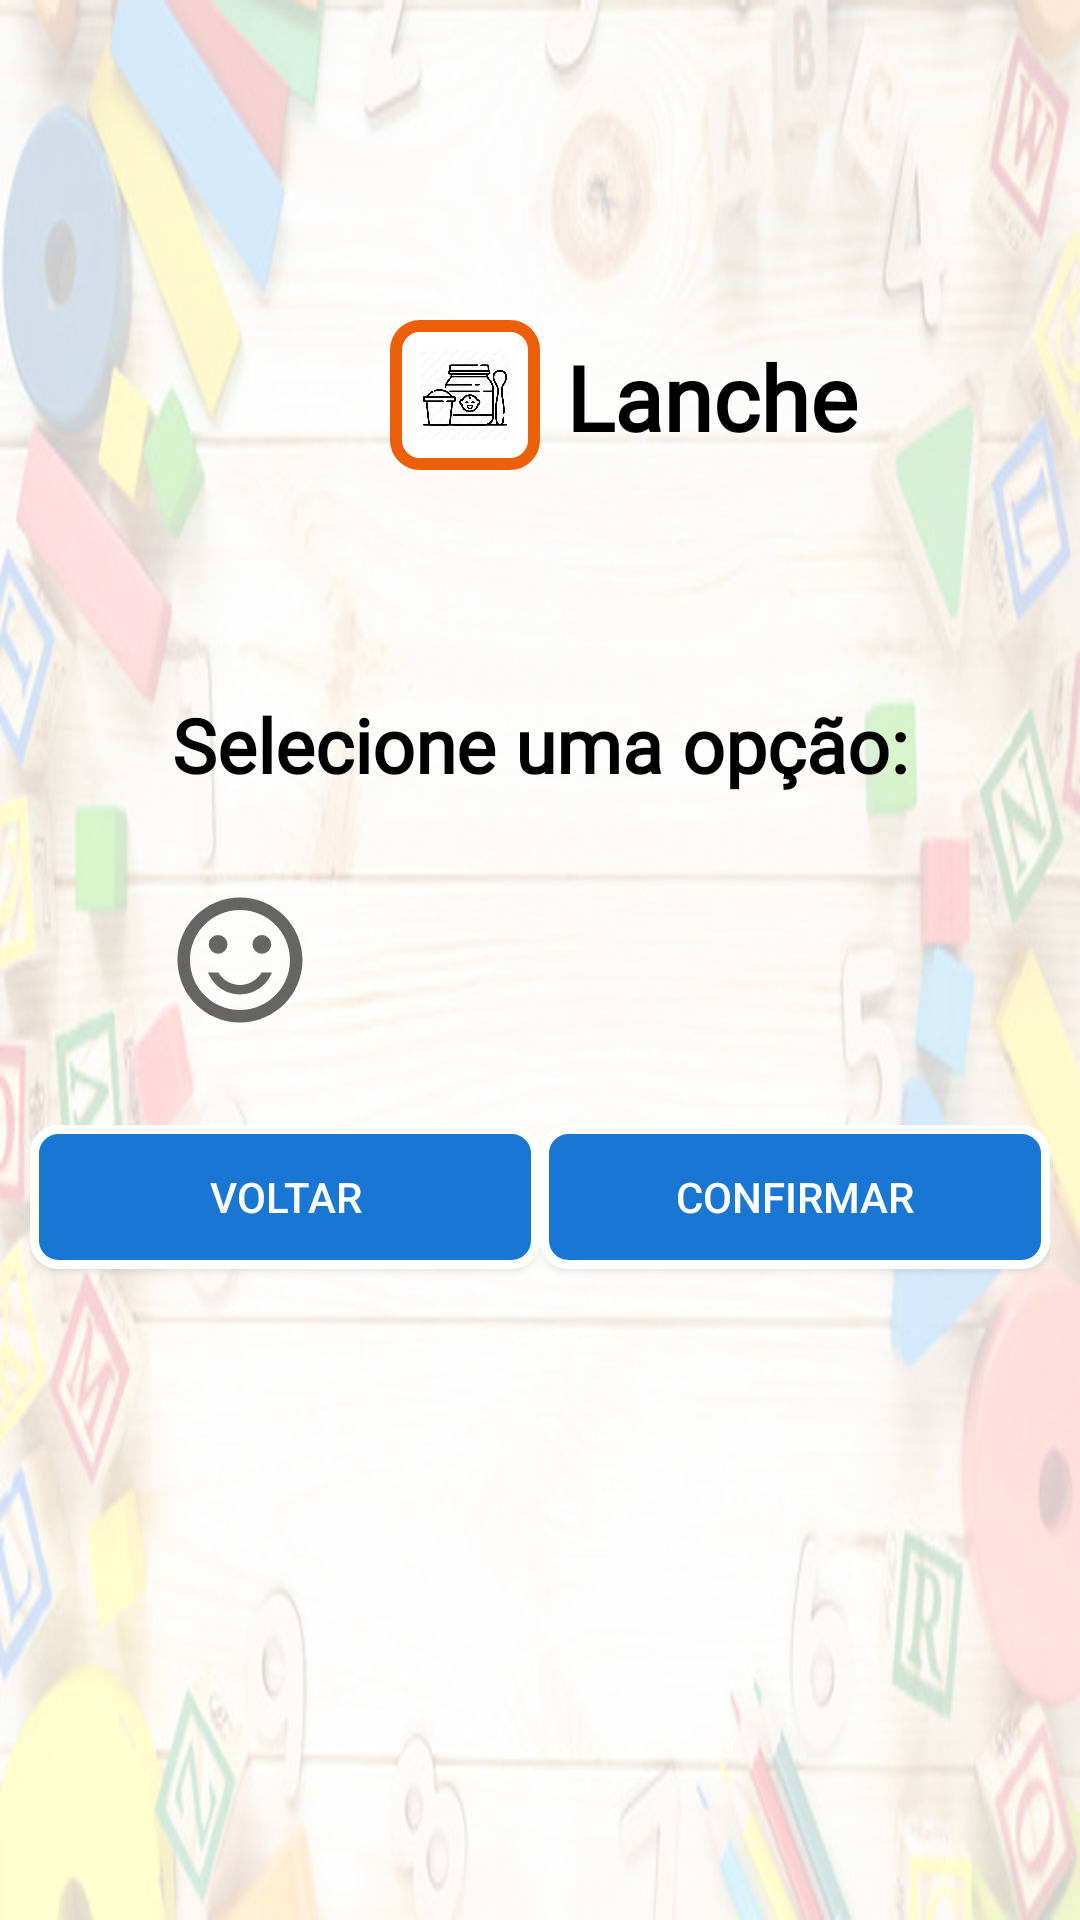

Named icons in this screenshot (1080 × 1920) and their centers, [x,y]:
satisfied: [240,960]
